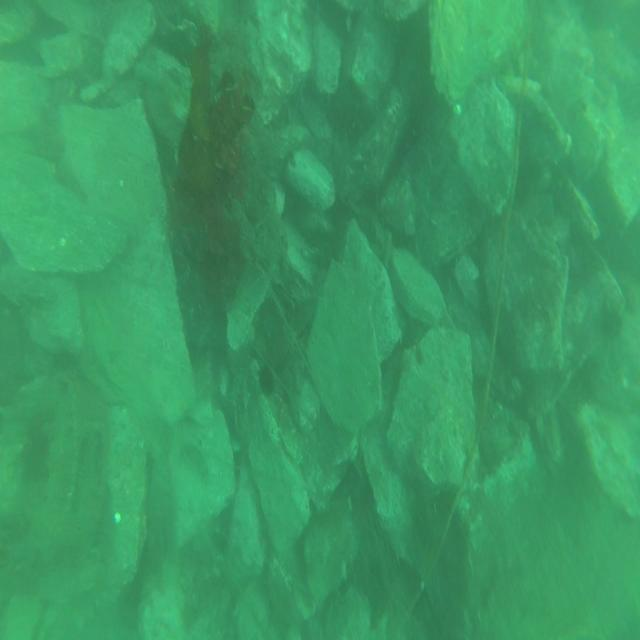echinus: (258, 364, 276, 398)
